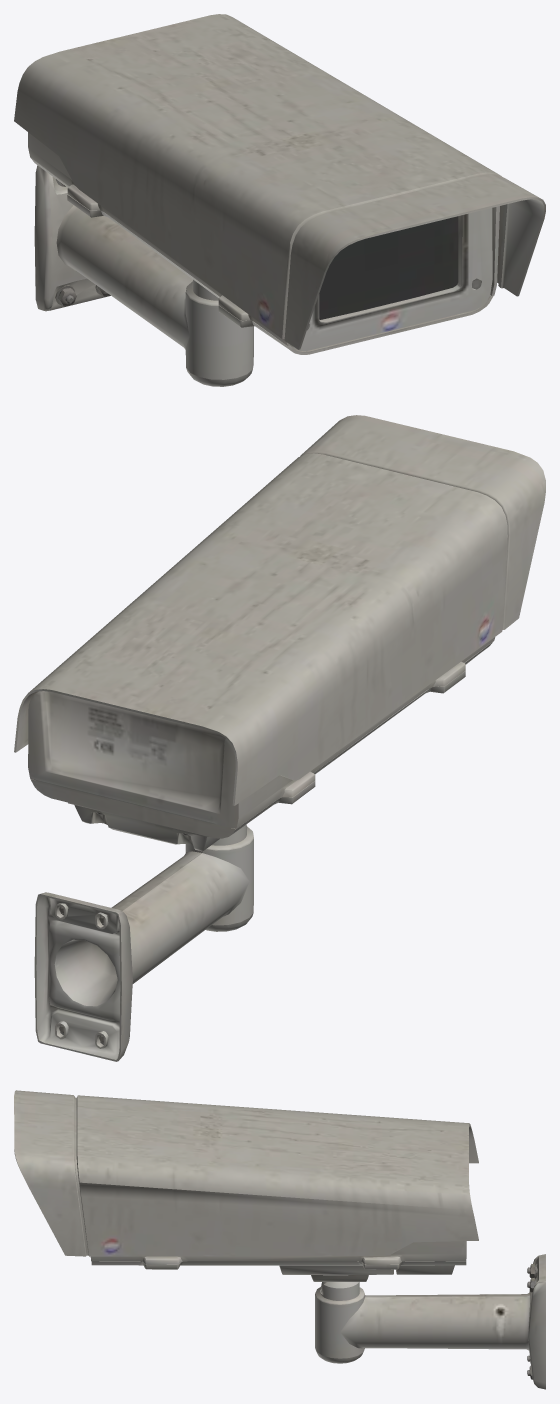
File: security_camera.glb
3 views of the same model, one above another, from view 1: azimuth 30°, elevation 25°; view 2: azimuth 150°, elevation 25°; view 3: azimuth 270°, elevation 25° (orthographic). The views are drawn at different scales.
Parts seen in each view (by area): view 1: security_camera_02, security_camera_02_mount; view 2: security_camera_02, security_camera_02_mount; view 3: security_camera_02, security_camera_02_mount.
Boxes of the visible parts, x1,y1,x2,y2 form: security_camera_02: (14,14,545,354); security_camera_02_mount: (34,165,253,386); security_camera_02: (14,415,545,851); security_camera_02_mount: (34,824,253,1061); security_camera_02: (14,1090,478,1294); security_camera_02_mount: (315,1254,545,1389).
Size of the model in its own units: 0.1406 by 0.2082 by 0.3937.
Materials: 2 (2 with a texture image).
